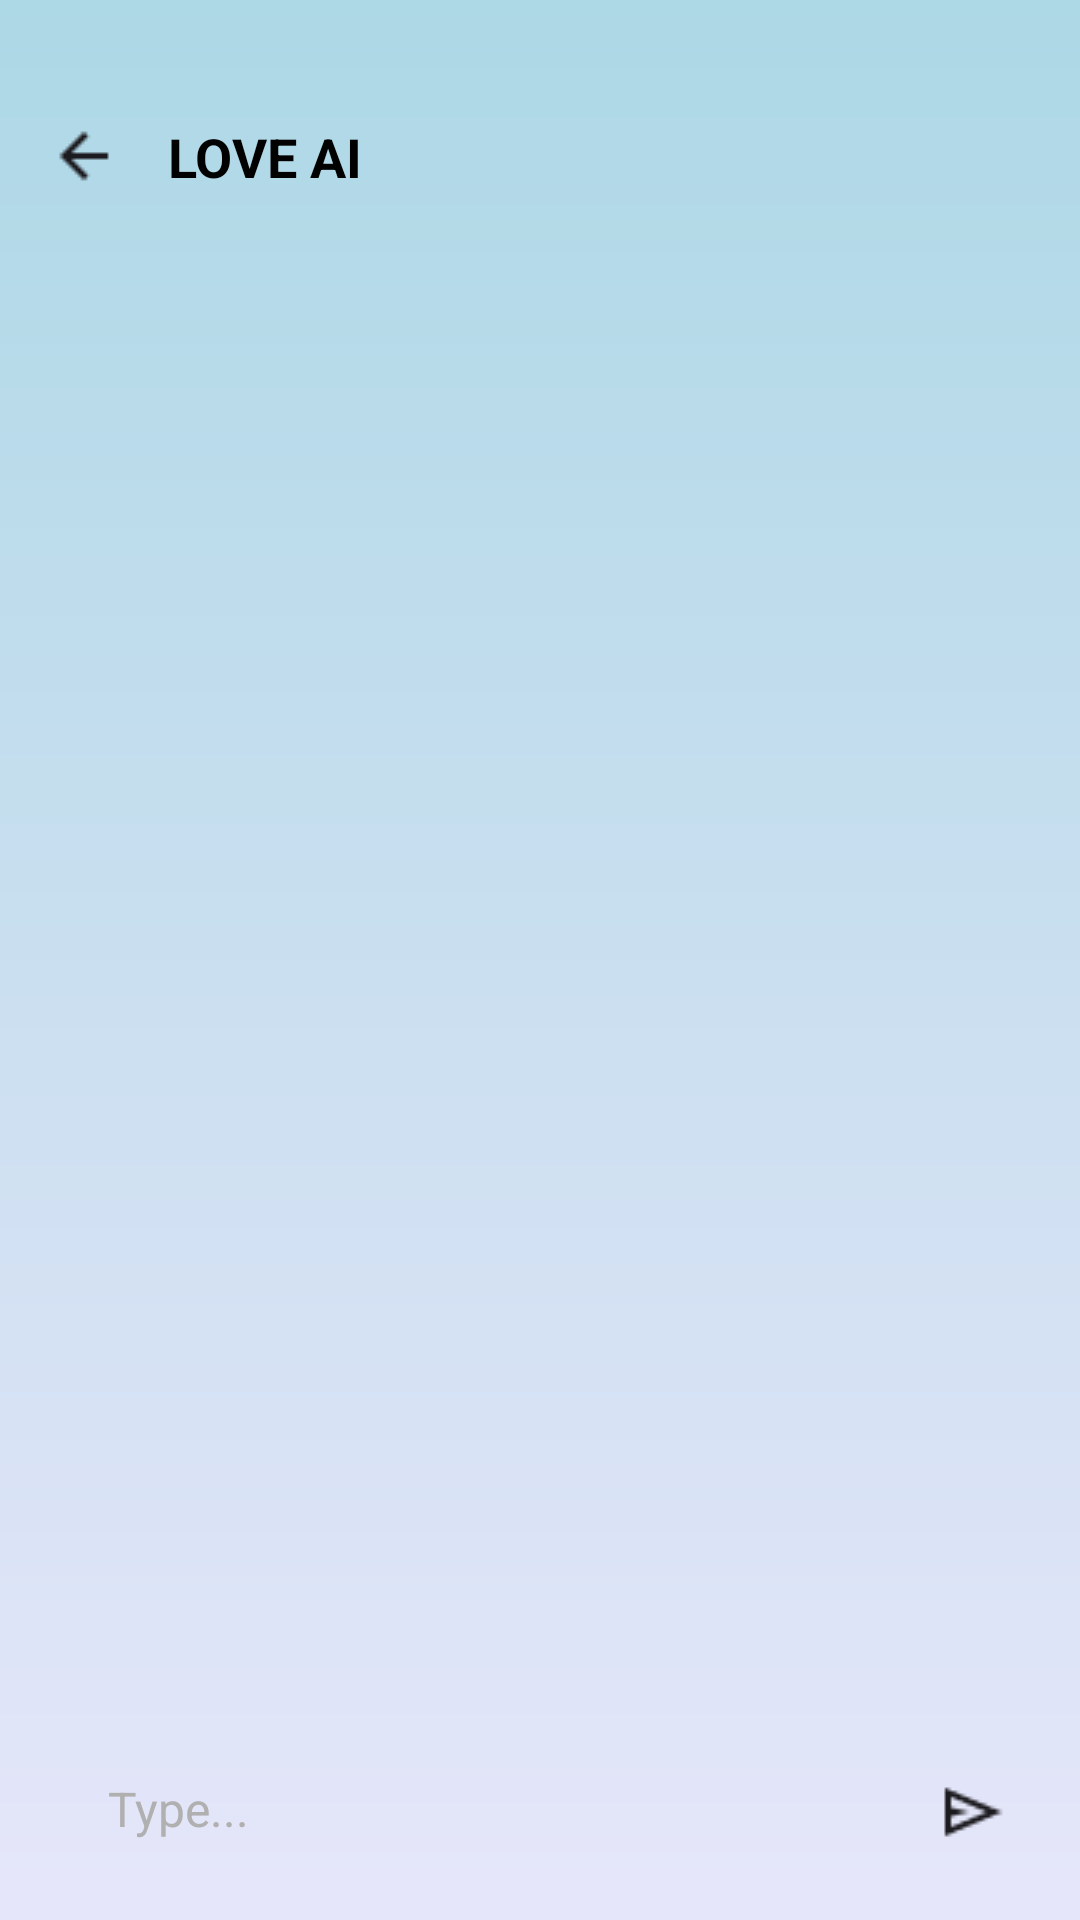

Icon bounding boxes for this 1080px×1920px phone screenshot, format box(x1, y1, x2, y2):
Back: box(59, 131, 109, 181)
Send: box(944, 1787, 1002, 1837)
